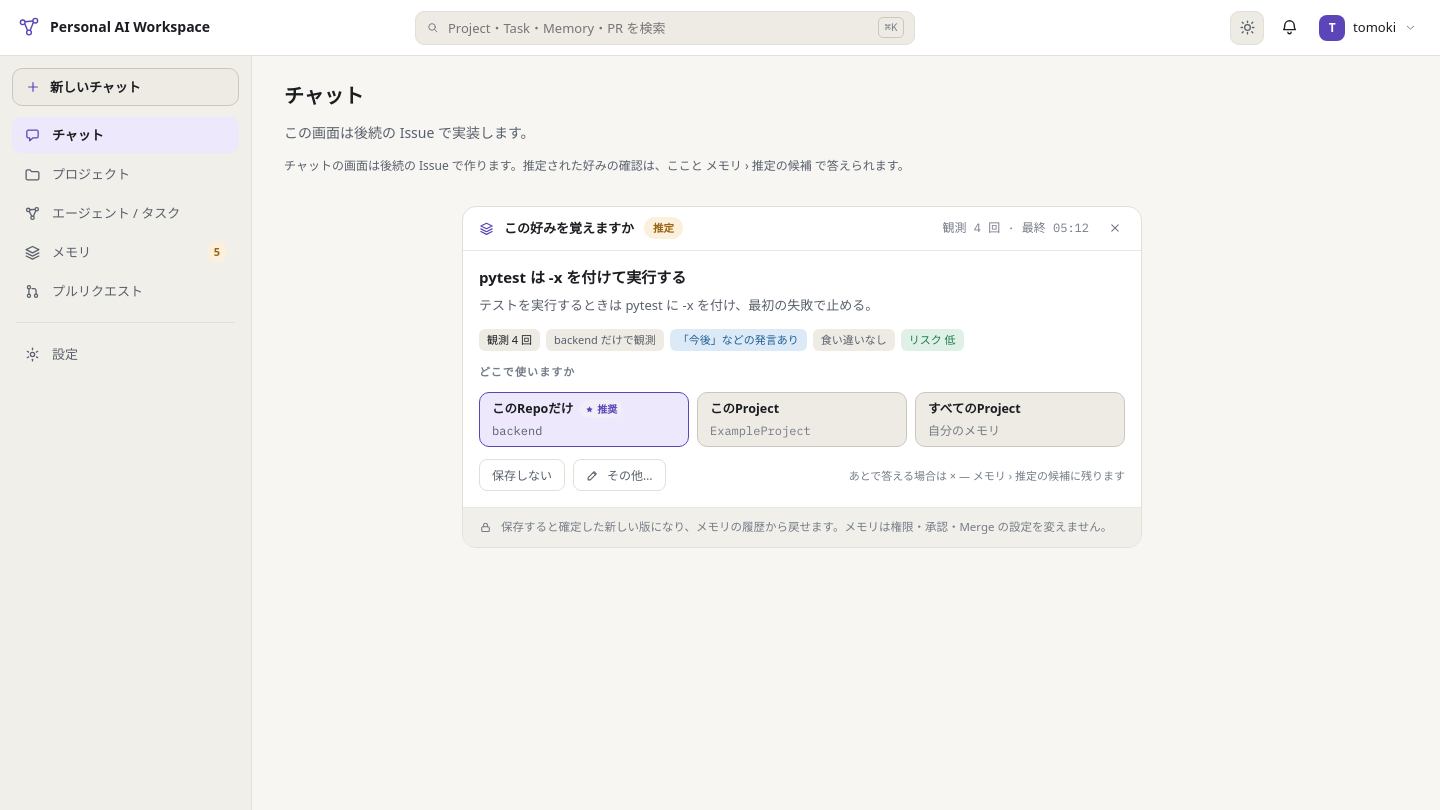
Test: the chat's preference confirmation card › saves at the chosen scope and folds into one line with the history link
Click the button "このRepoだけ 推奨 backend".
click(584, 420)  # box [479, 392, 689, 447]
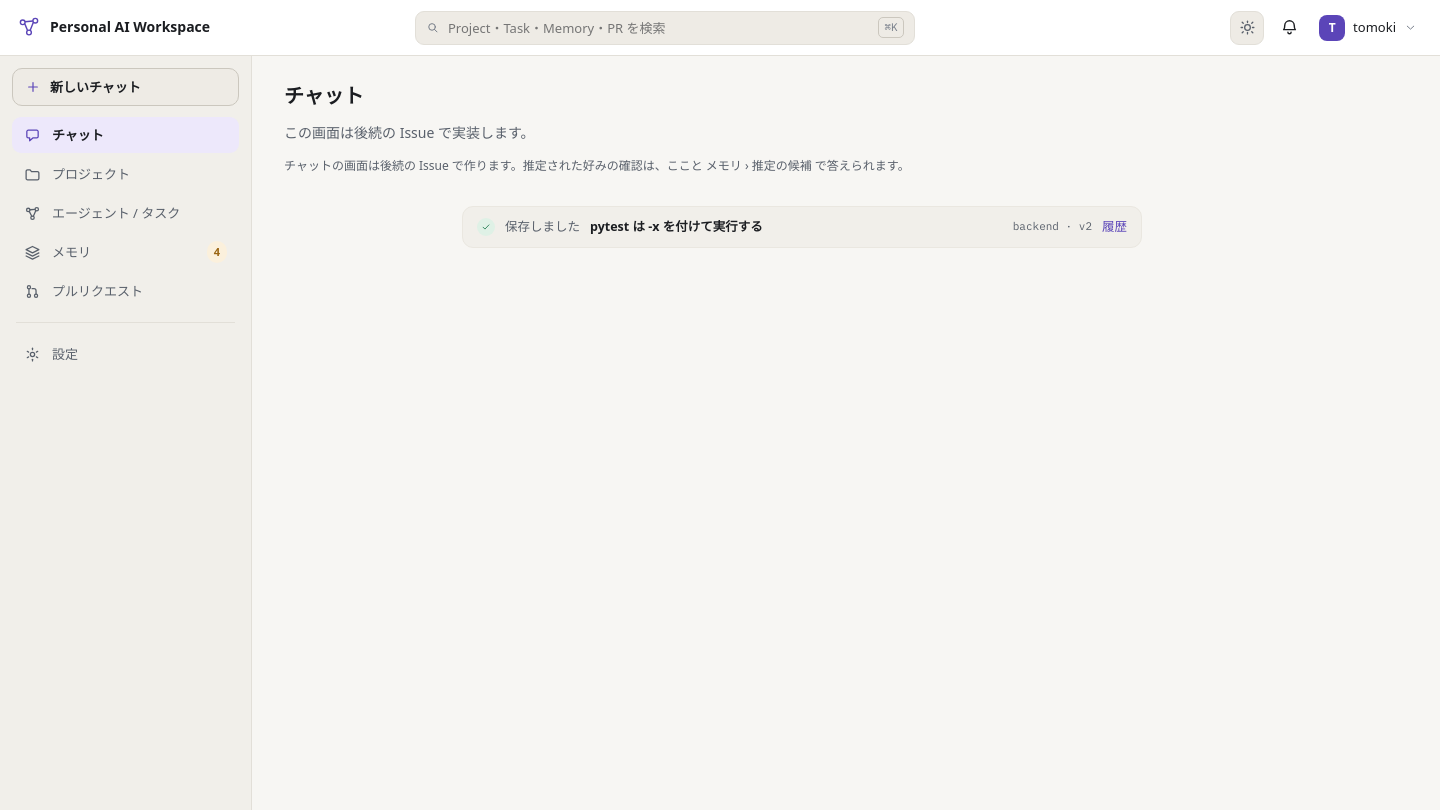
Check: the message reads "保存しました pytest は -x を付けて実行する backend · v2 履歴", box [462, 206, 1142, 248]
